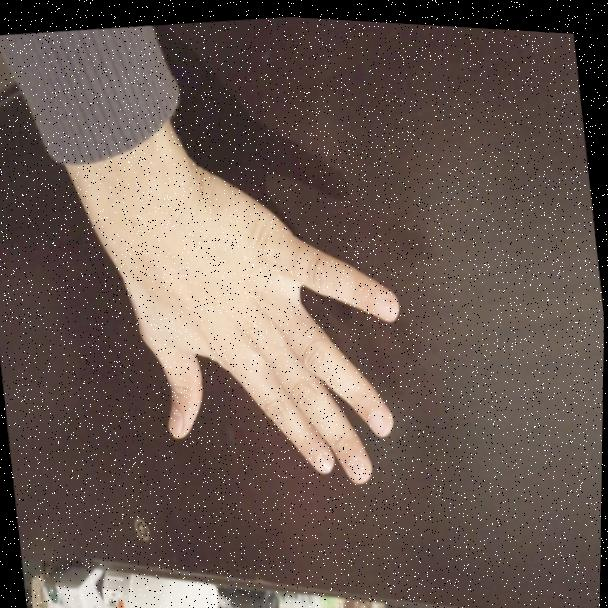five: (125, 172, 429, 511)
